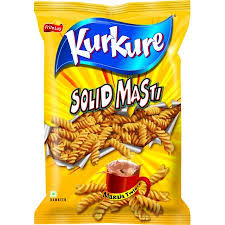kurkure: (56, 15, 174, 77)
plastic: (34, 2, 193, 225)
wrapper: (32, 2, 193, 225)
